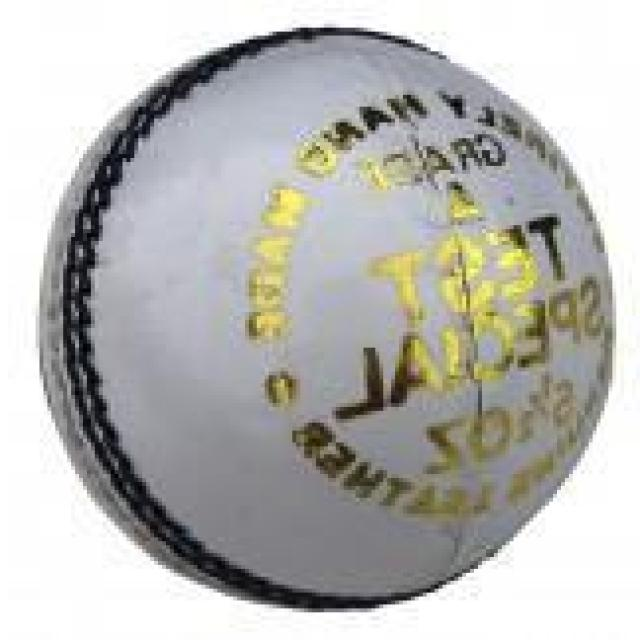ball: (35, 28, 612, 616)
